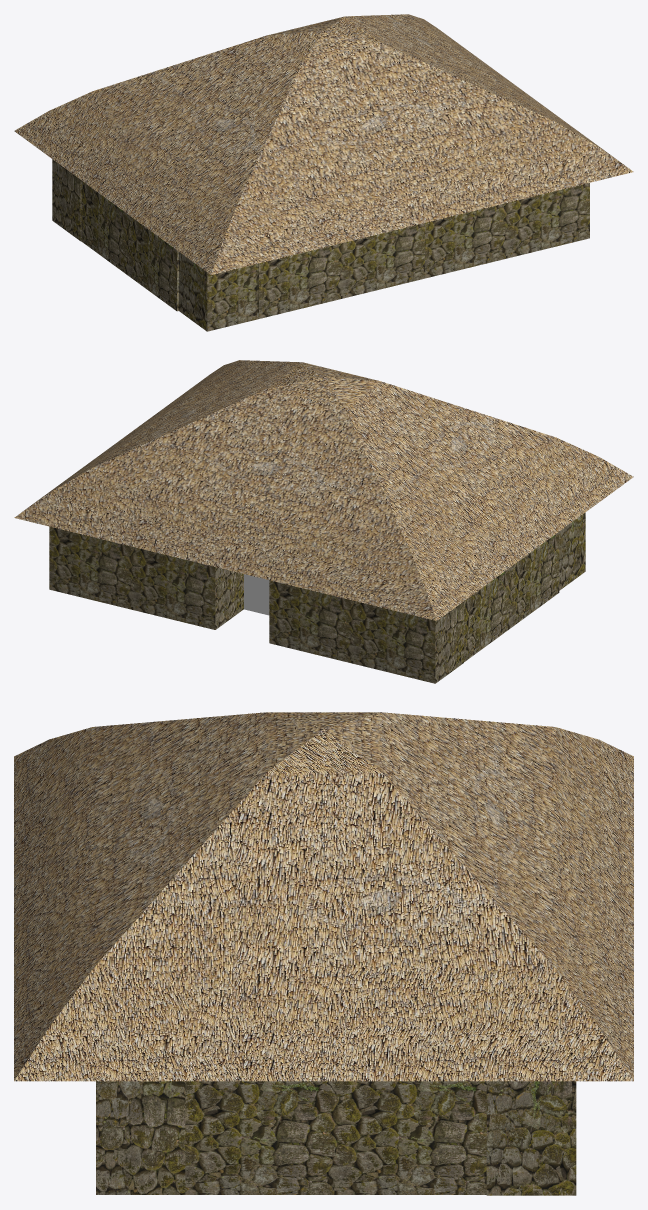
The model's file is NeolithicHut.FBX.
The picture shows the model from 3 angles, top to bottom: view 1: azimuth 30°, elevation 25°; view 2: azimuth 150°, elevation 25°; view 3: azimuth 270°, elevation 25°; orthographic projection. The views are drawn at different scales.
Visible parts, largest first — view 1: Roof, Wall006, Wall005, Wall003, Wall007, Wall002; view 2: Roof, Wall002, Wall1, Wall003, Wall007, bLACK; view 3: Roof, Wall004, Wall1, Wall005.
Boxes of the visible parts, x1,y1,x2,y2 form: Roof: [14, 14, 633, 274]; Wall006: [258, 223, 424, 318]; Wall005: [425, 183, 589, 278]; Wall003: [81, 180, 178, 311]; Wall007: [179, 252, 258, 331]; Wall002: [52, 159, 81, 241]; Roof: [14, 360, 633, 620]; Wall002: [269, 580, 463, 683]; Wall1: [49, 526, 243, 629]; Wall003: [464, 532, 559, 661]; Wall007: [559, 512, 585, 590]; bLACK: [244, 574, 269, 615]; Roof: [14, 712, 633, 1081]; Wall004: [185, 1081, 486, 1194]; Wall1: [486, 1081, 576, 1195]; Wall005: [96, 1081, 185, 1194].
Size of the model in its own units: 168 by 76.55 by 135.
Materials: 2 (2 with a texture image).
